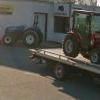Tractor: (53, 7, 100, 73)
